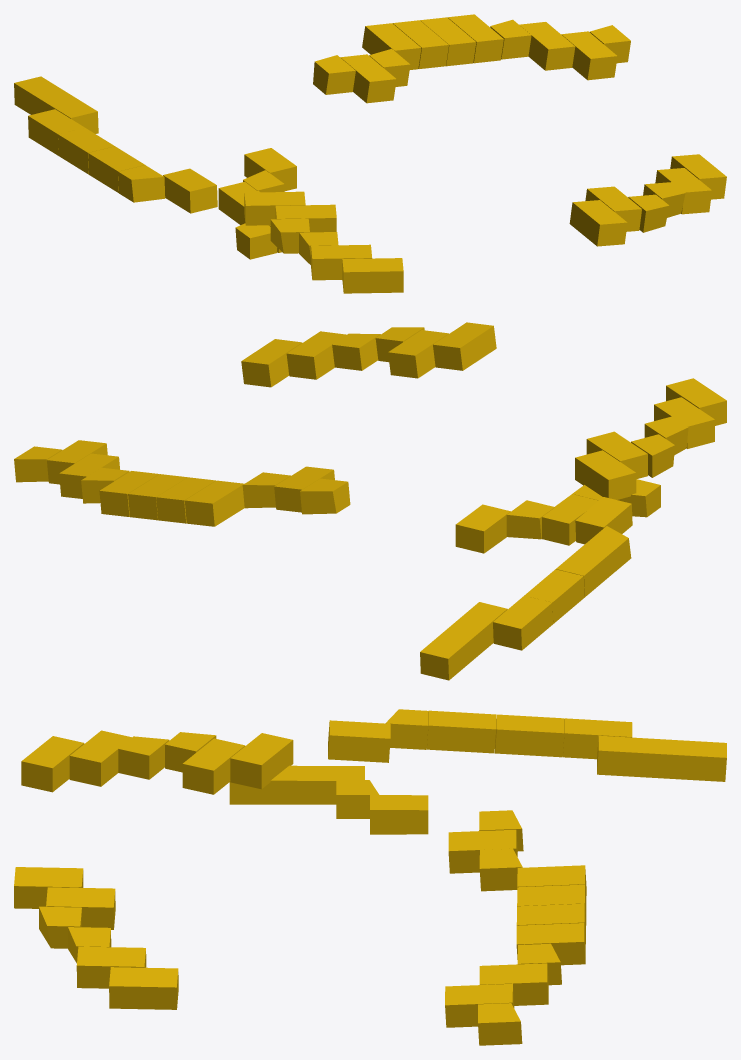
File: Rubble_Cinderblock_02B_Lod1.fbx
3 views of the same model, one above another, from view 1: azimuth 30°, elevation 25°; view 2: azimuth 150°, elevation 25°; view 3: azimuth 270°, elevation 25° (orthographic). The views are drawn at different scales.
Visible parts, largest first — view 1: Rubble_Cinderblock_02B_Lod1; view 2: Rubble_Cinderblock_02B_Lod1; view 3: Rubble_Cinderblock_02B_Lod1.
Boxes of the visible parts, <box> form: Rubble_Cinderblock_02B_Lod1: <box>14,14,726,293</box>; Rubble_Cinderblock_02B_Lod1: <box>14,322,726,680</box>; Rubble_Cinderblock_02B_Lod1: <box>14,709,726,1045</box>.
Bounding box in the file's own units: 527 × 59.06 × 538.
